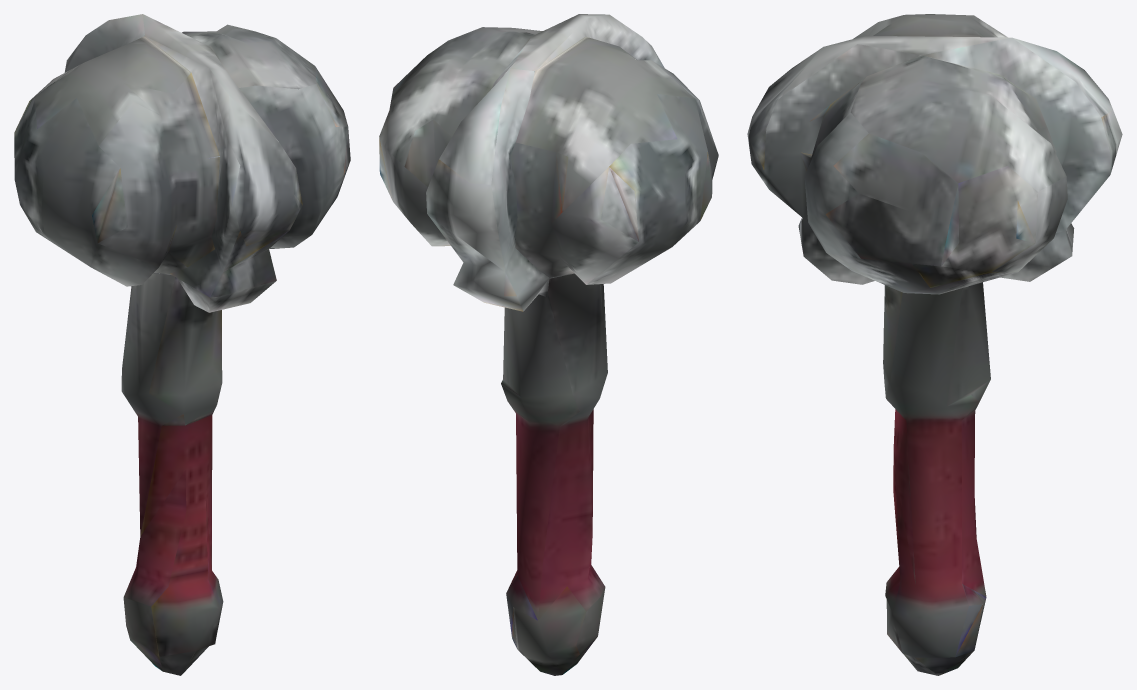
Rendered from sledgehammer.glb.
The picture shows the model from 3 angles, left to right: view 1: azimuth 30°, elevation 25°; view 2: azimuth 150°, elevation 25°; view 3: azimuth 270°, elevation 25°; orthographic projection.
Parts seen in each view (by area): view 1: sledgehammer; view 2: sledgehammer; view 3: sledgehammer.
Boxes of the visible parts, x1,y1,x2,y2 form: sledgehammer: (14,14,350,675); sledgehammer: (379,14,718,675); sledgehammer: (747,14,1122,675).
Size of the model in its own units: 0.1521 by 0.3028 by 0.1603.
Materials: 1 (1 with a texture image).
